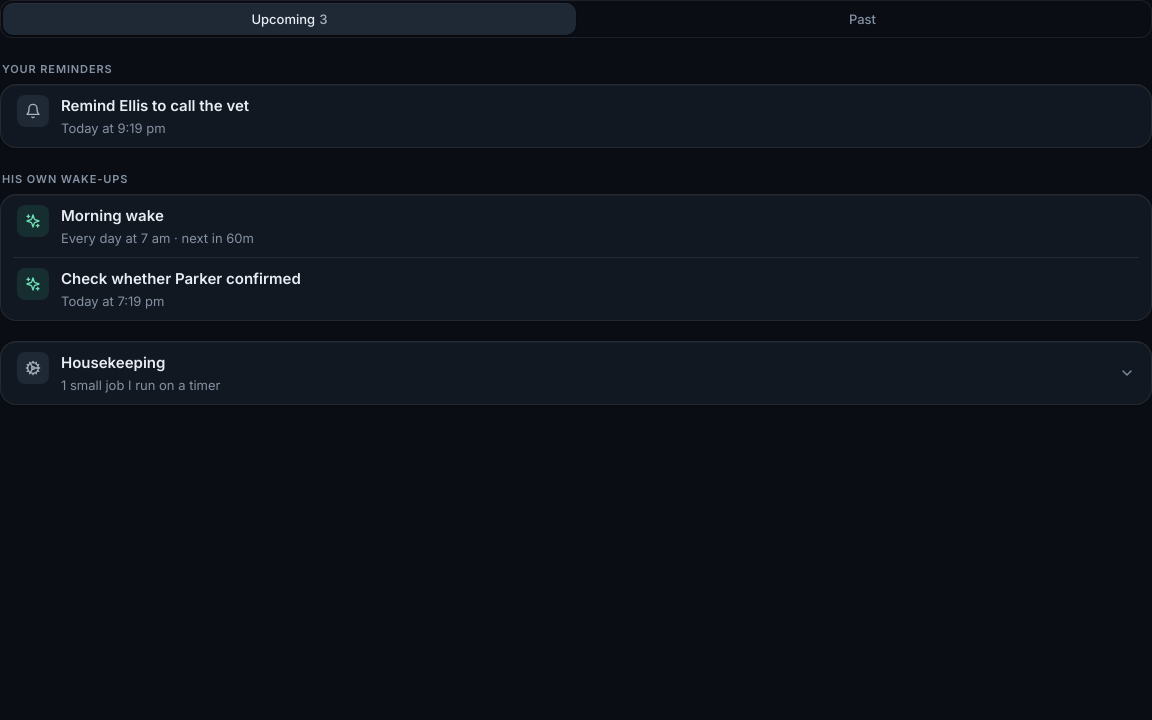
Scenario: EventsBrowser cancel and delete with Undo › keeps a cancelled reminder gone once it commits, and says when Undo is too late
This screenshot has width=1152, height=720.
Click the button "Remind Ellis to call the vet".
click(33, 111)  # box [13,85,1139,147]
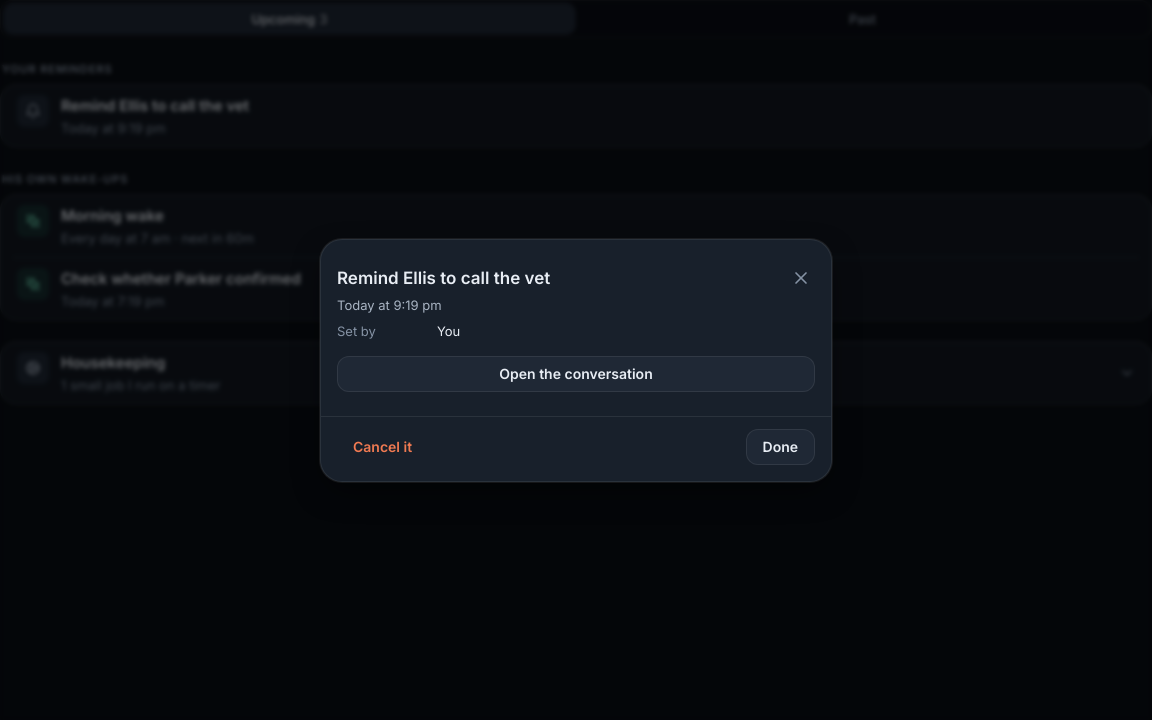
Click the button "Cancel it".
click(383, 446)  # box [337,428,428,464]
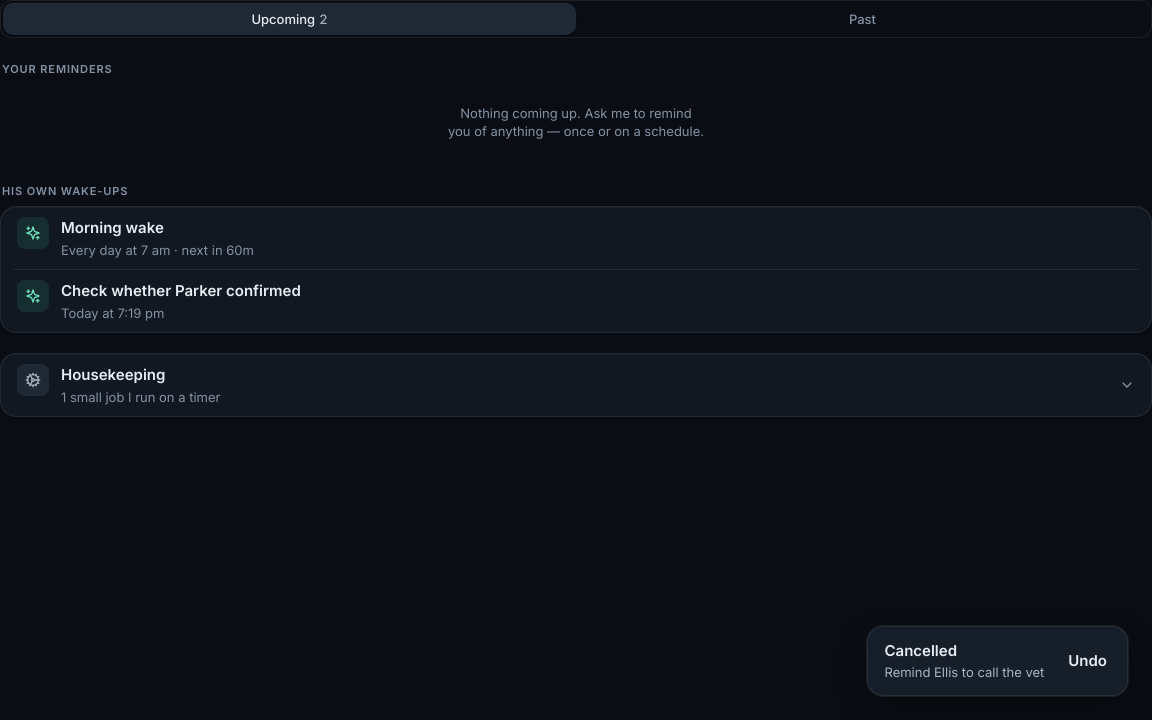
Click the button "Undo".
click(1088, 661)  # box [1056,639,1119,683]
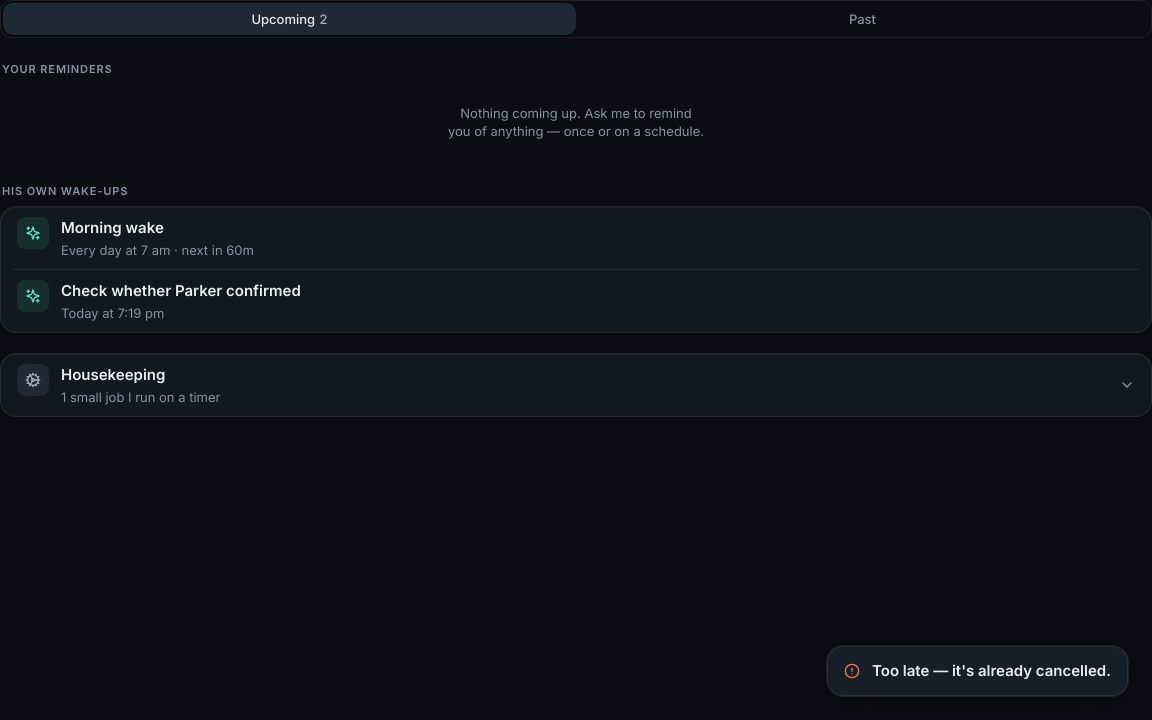
Expected: the text "Too late — it's already cancelled." is shown, [872,661,1111,681]
